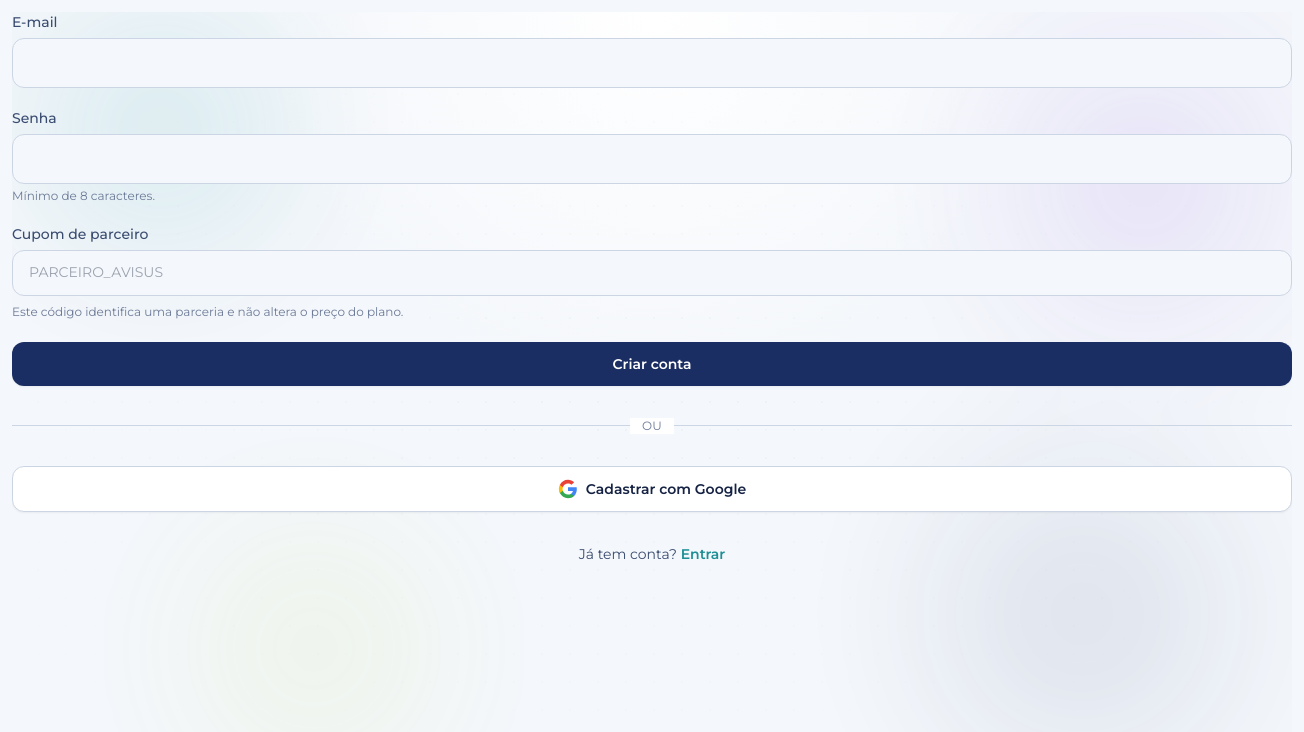
RegisterForm › shows general server error feedback
Step 1. Type "geral@avisus.test" into the field labelled "E-mail" → (652, 63), box [12, 38, 1292, 88]
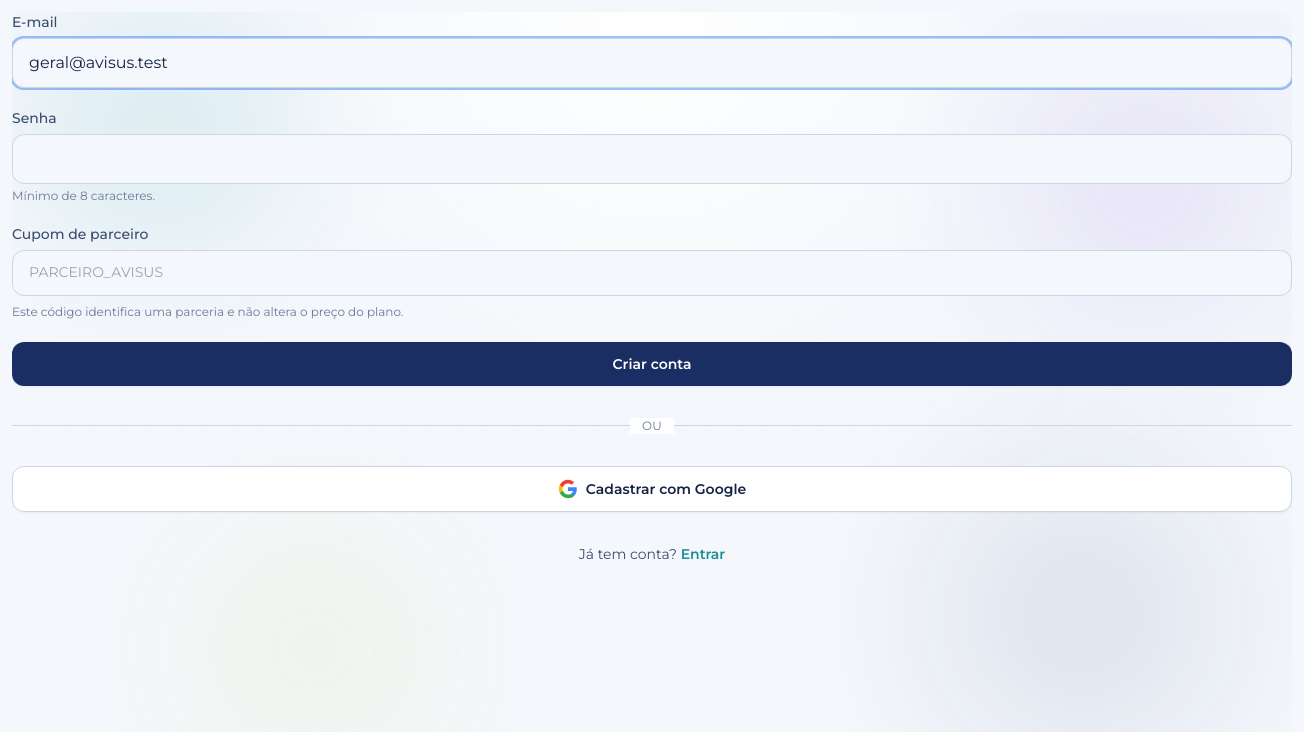
Step 2. Type "password123" into the password field labelled "Senha" → (652, 159), box [12, 134, 1292, 184]
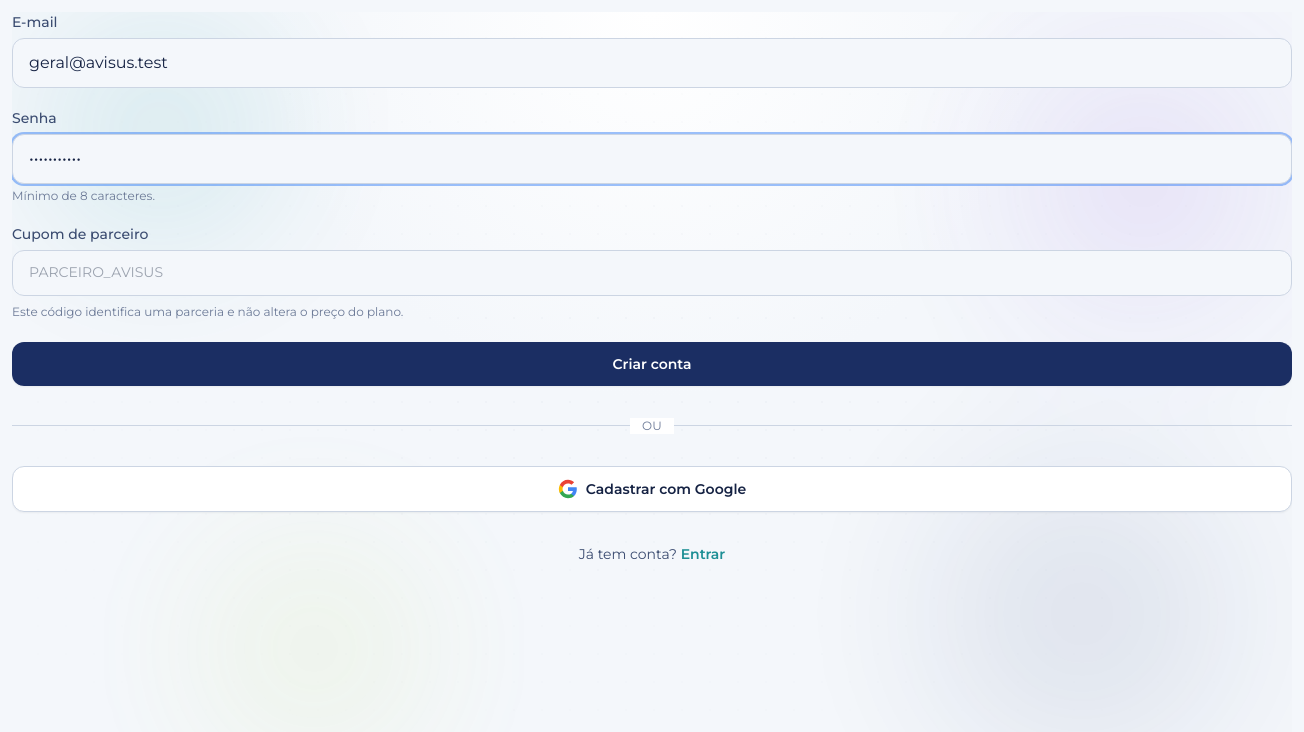
Step 3. Click the button "Criar conta" → click(652, 364), box [12, 342, 1292, 386]
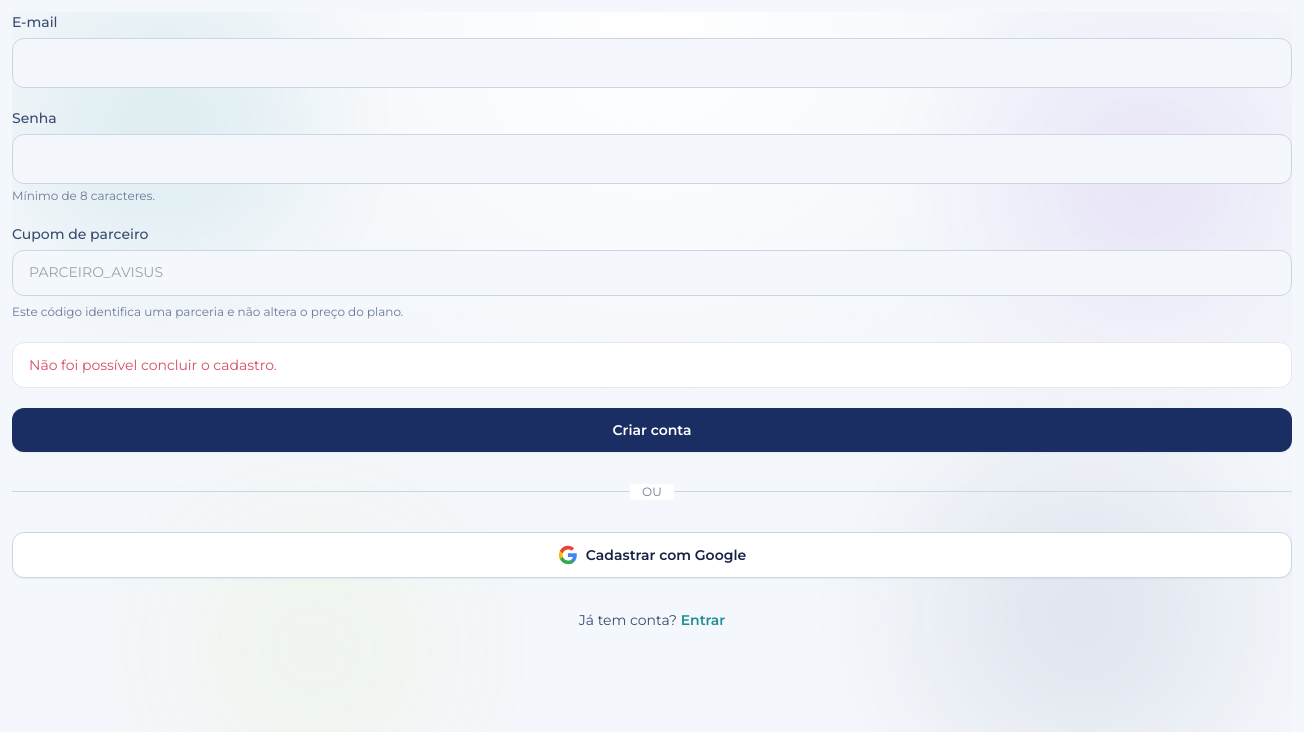
Now the message reads "Não foi possível concluir o cadastro.", box [29, 356, 277, 374]
